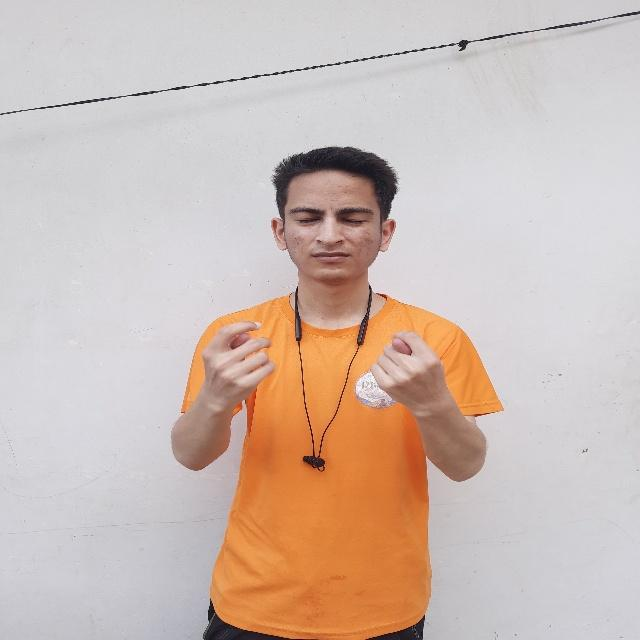Dulya: (364, 320, 459, 423), (192, 313, 282, 414)
